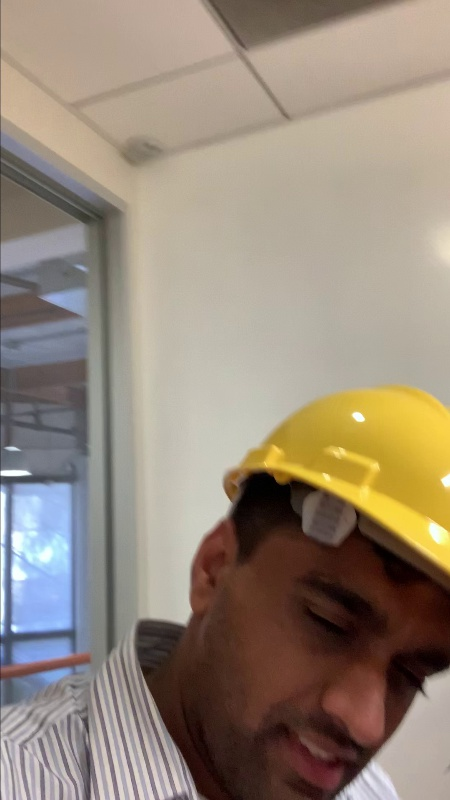helmet: (219, 351, 450, 594)
